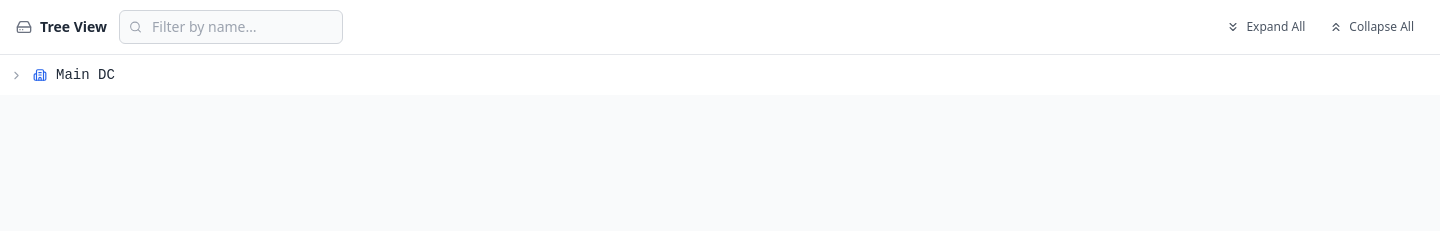
it: TreeView page › lazy-loads devices when rack is expanded
Check: the text "Main DC" is shown, box left=56, top=67, right=115, bottom=83
Click the button named "Expand": (16, 75) left=6, top=65, right=26, bottom=85
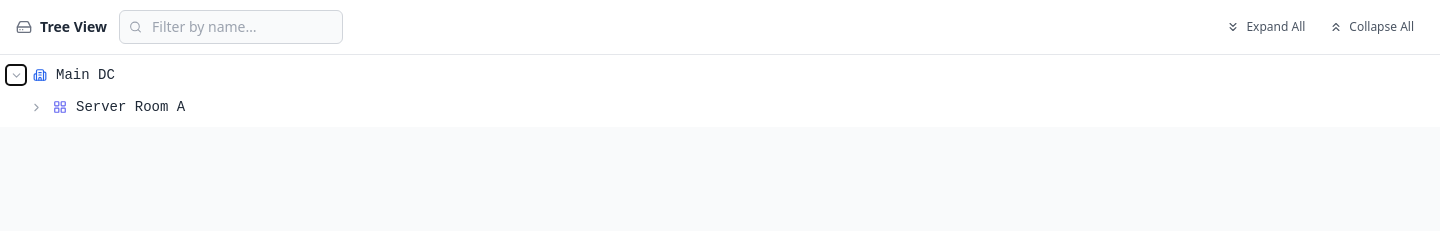
Check: the text "Server Room A" is shown, box left=76, top=99, right=185, bottom=115
Click the button named "Expand": (36, 107) left=26, top=97, right=46, bottom=117
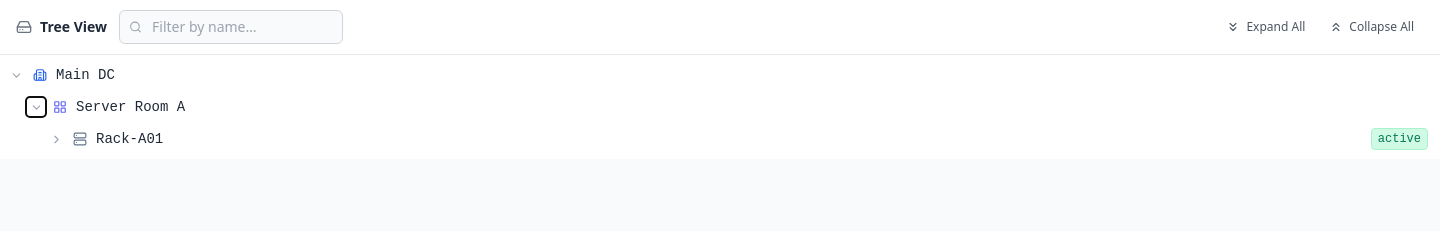
Check: the text "Rack-A01" is shown, box left=96, top=131, right=163, bottom=147
Click the button named "Expand": (56, 139) left=46, top=129, right=66, bottom=149
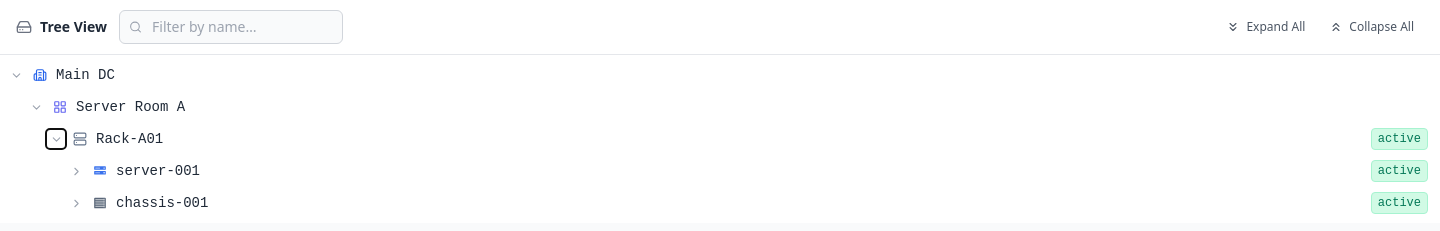
Check: the text "server-001" is shown, box left=116, top=163, right=200, bottom=179
Check: the text "chassis-001" is shown, box left=116, top=195, right=208, bottom=211
